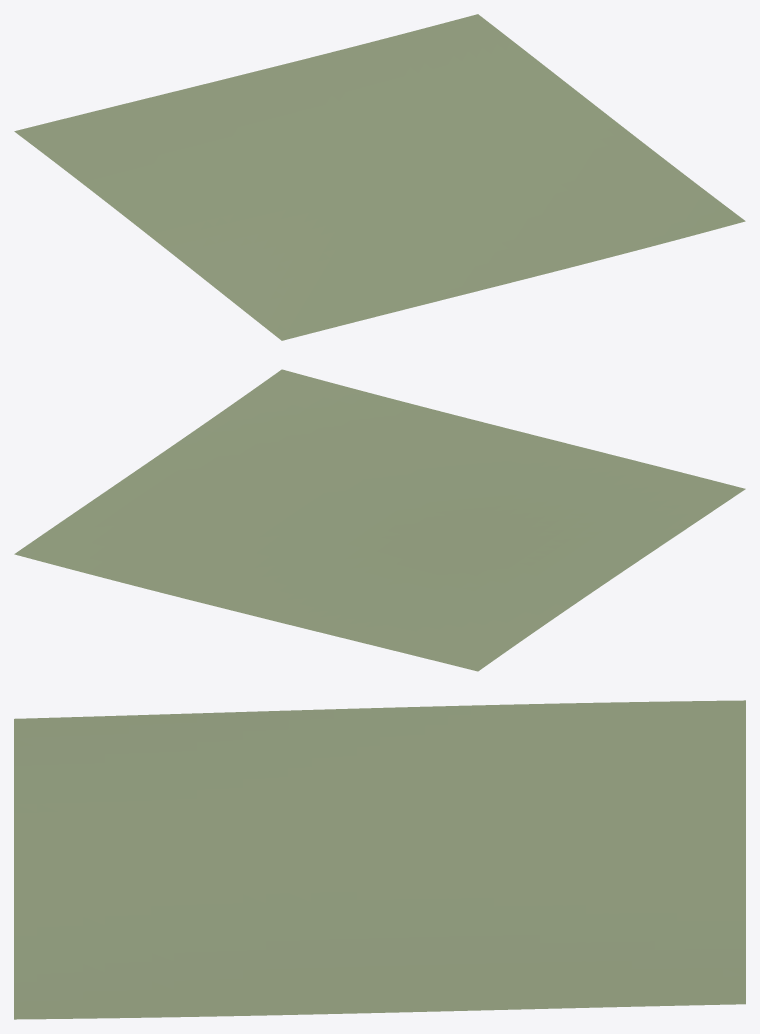
Rendered from expanse-8-3.glb.
The picture shows the model from 3 angles, top to bottom: view 1: azimuth 30°, elevation 25°; view 2: azimuth 150°, elevation 25°; view 3: azimuth 270°, elevation 25°; orthographic projection. The views are drawn at different scales.
Parts seen in each view (by area): view 1: expanse-8-3; view 2: expanse-8-3; view 3: expanse-8-3.
Part boxes in pixels (bbox=[...]): expanse-8-3: bbox=[14, 14, 745, 340]; expanse-8-3: bbox=[14, 369, 745, 671]; expanse-8-3: bbox=[14, 700, 745, 1019].
Bounding box in the file's own units: 256 × 9.23 × 256.
